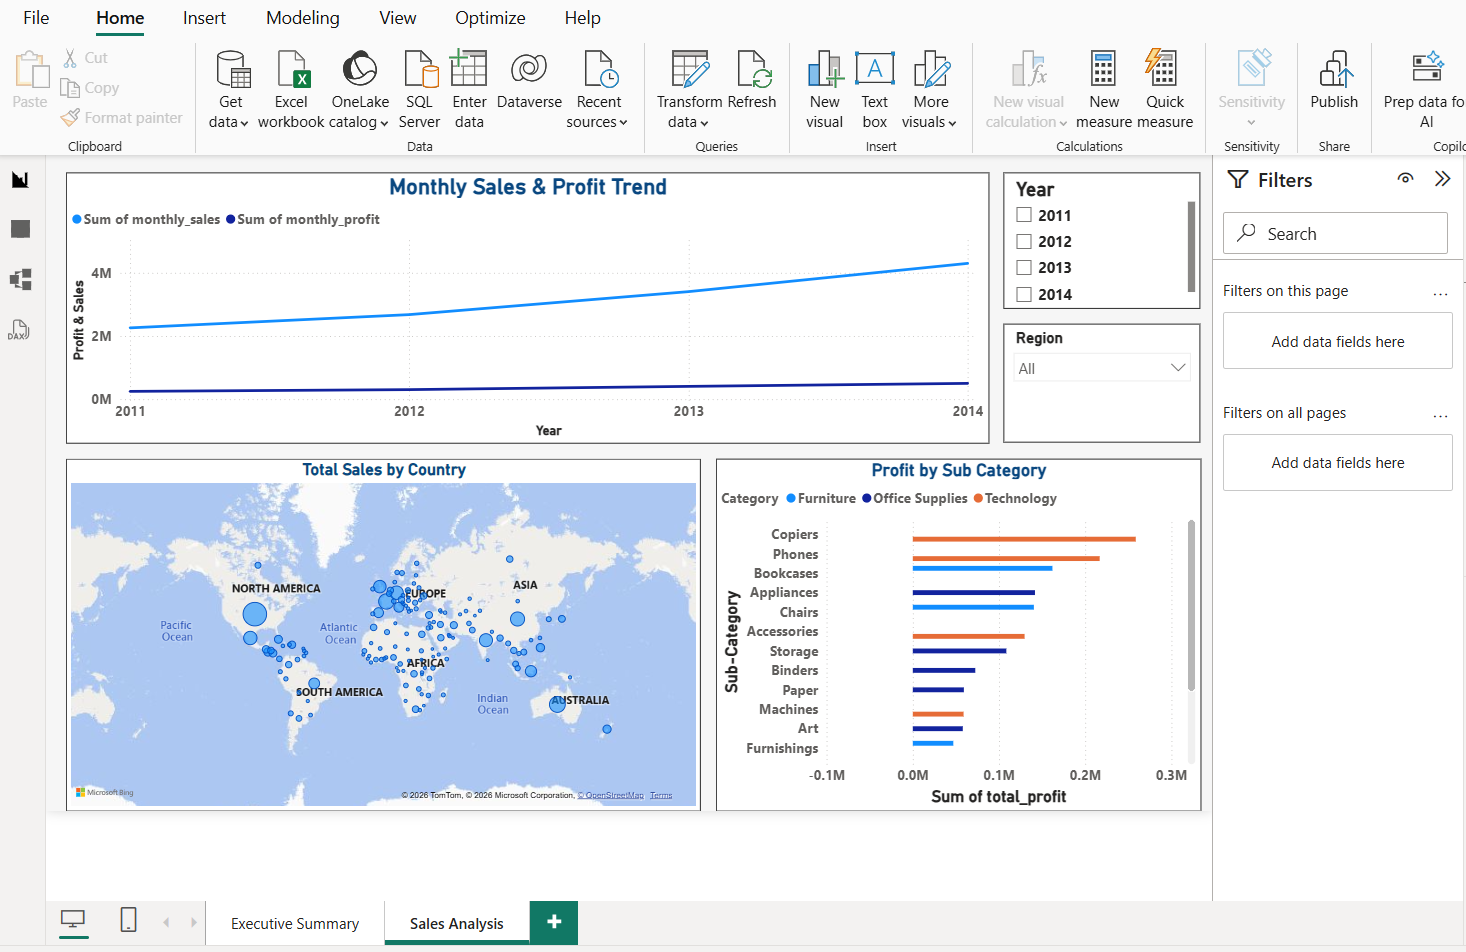

What the dashboard file says about the page in this screenshot:
{"tool":"powerbi","page":{"name":"Sales Analysis","canvas":[1280,720],"ordinal":1},"visuals":[{"type":"slicer","fields":{"Values":["monthly_trend.Year"]},"box":[1050.9,18.9,216.3,149.5],"z":0},{"type":"slicer","fields":{"Values":["superstore_pipe.Region"]},"box":[1050.9,185.8,216.3,130.6],"z":1000},{"type":"lineChart","title":"Monthly Sales & Profit Trend","fields":{"Y":["Sum(monthly_trend.monthly_profit)","Sum(monthly_trend.monthly_sales)"],"Category":["monthly_trend.Month_Year.Variation.Date Hierarchy.Year","monthly_trend.Month_Year.Variation.Date Hierarchy.Quarter","monthly_trend.Month_Year.Variation.Date Hierarchy.Month","monthly_trend.Month_Year.Variation.Date Hierarchy.Day"]},"box":[21.8,18.9,1013.2,297.6],"z":2000},{"type":"map","fields":{"Category":["superstore_pipe.Country"],"Size":["superstore_pipe.Total Sales"]},"box":[22,333.4,697.1,387],"z":3000},{"type":"clusteredBarChart","title":"Profit by Sub Category","fields":{"Category":["category_performance.Sub-Category"],"Series":["category_performance.Category"],"Y":["superstore_pipe.Total Profit"]},"box":[735.5,333.4,532.4,387],"z":4000}]}

Visuals, with their boxes on the page's 1280x720 design canvas (x1, y1, x2, y2). These are canvas units, not pixel positions in the 1466x952 screenshot, which may show the page scaled, cropped or inside an application window:
slicer - monthly_trend.Year: [1051, 19, 1267, 168]
slicer - superstore_pipe.Region: [1051, 186, 1267, 316]
"Monthly Sales & Profit Trend" lineChart: [22, 19, 1035, 316]
map - superstore_pipe.Country x superstore_pipe.Total Sales: [22, 333, 719, 720]
"Profit by Sub Category" clusteredBarChart: [736, 333, 1268, 720]
